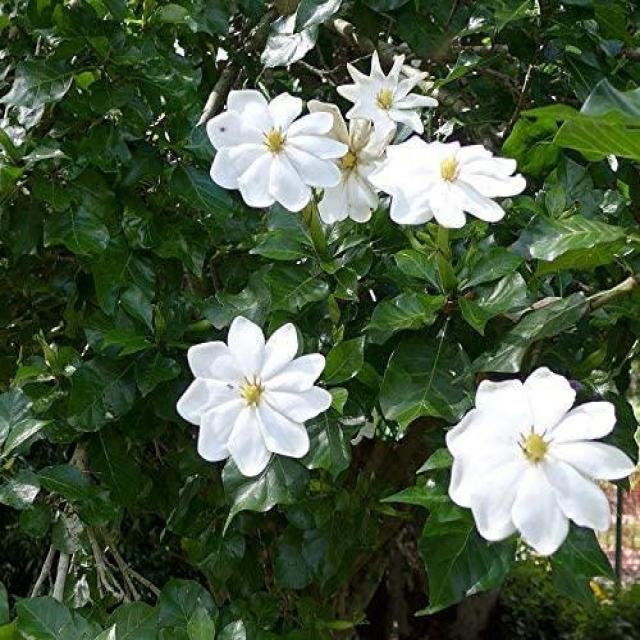organic waste: (450, 365, 626, 548), (178, 316, 328, 468), (209, 72, 349, 218), (376, 128, 540, 231), (310, 108, 402, 241), (340, 45, 440, 137)
